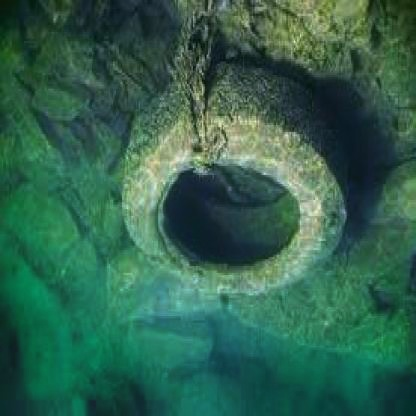tire: (116, 78, 371, 328)
